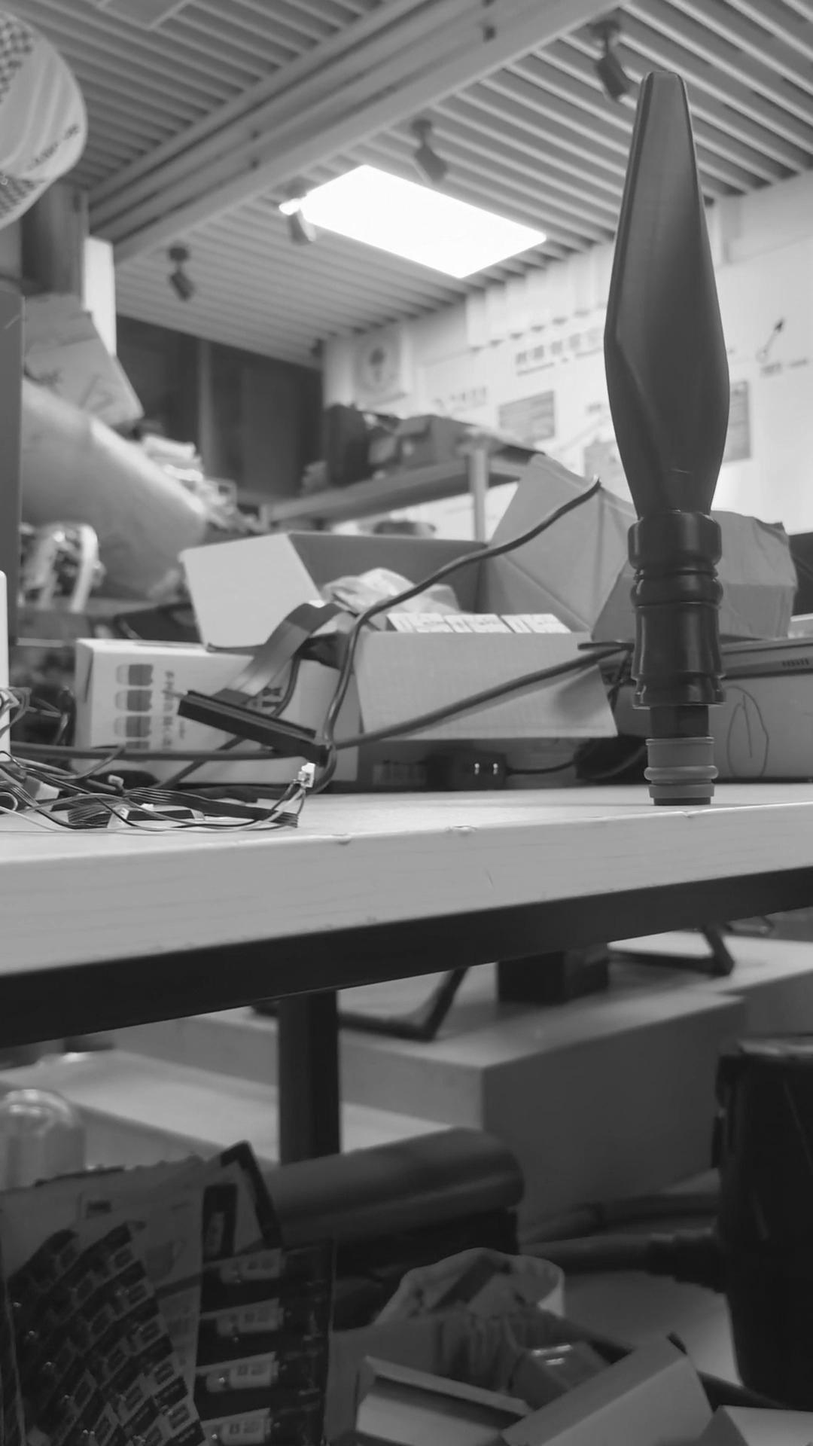base: (642, 726, 736, 820)
